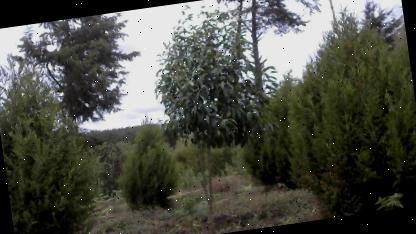tree: (141, 0, 295, 225)
